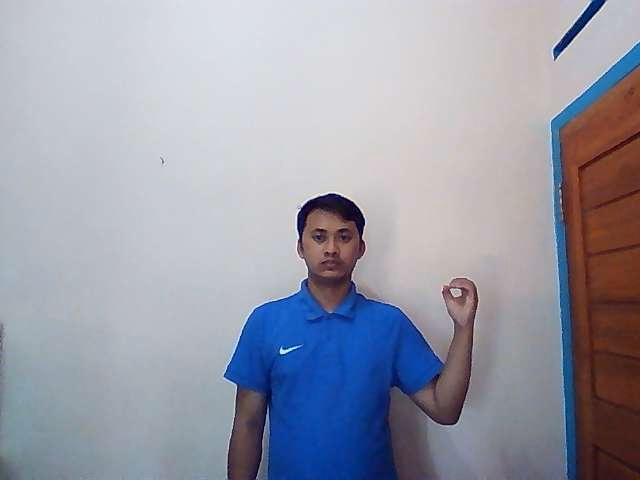O: (441, 276, 479, 329)
